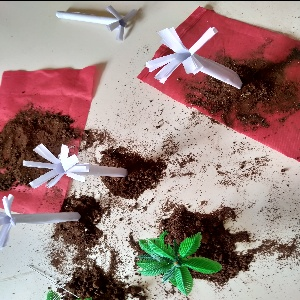plant: (135, 223, 234, 292)
weed: (145, 21, 258, 108), (22, 136, 141, 191), (1, 188, 97, 241), (53, 5, 140, 44)
